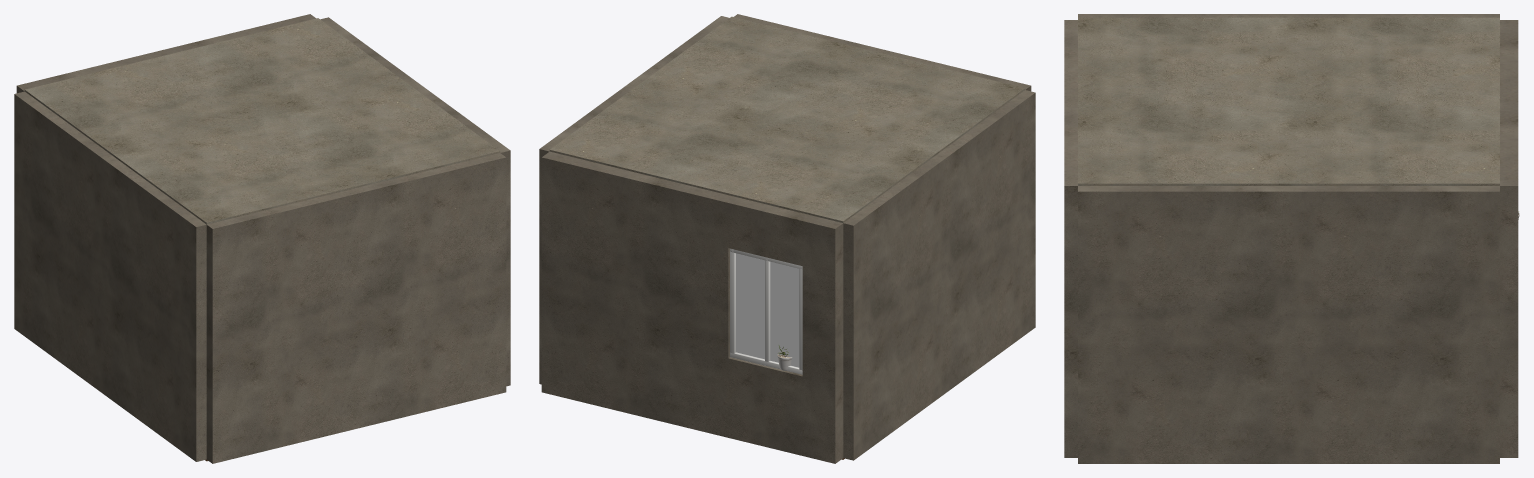
Rendered from room.glb.
3 renders of one model, left to right at view 1: azimuth 30°, elevation 25°; view 2: azimuth 150°, elevation 25°; view 3: azimuth 270°, elevation 25°, orthographic. The views are drawn at different scales.
Visible parts, largest first — view 1: wall_back, ceiling, wall_left, wall_right, wall_front_r; view 2: ceiling, wall_left, wall_front_r, wall_front_l, wall_front_b, rt_windowGlass, wall_front_t, wall_right, wall_back, window_frame_3, window_frame_4; view 3: wall_right, ceiling, wall_front_r, wall_back, wall_left, wall_front_t.
Part boxes in pixels (x1=…): wall_back: x1=206, y1=153, x2=506, y2=463; ceiling: x1=24, y1=18, x2=500, y2=224; wall_left: x1=14, y1=91, x2=206, y2=461; wall_right: x1=320, y1=17, x2=510, y2=386; wall_front_r: x1=124, y1=14, x2=315, y2=63; ceiling: x1=549, y1=16, x2=1025, y2=222; wall_left: x1=843, y1=90, x2=1035, y2=460; wall_front_r: x1=541, y1=151, x2=735, y2=437; wall_front_l: x1=802, y1=215, x2=843, y2=463; wall_front_b: x1=728, y1=357, x2=802, y2=455; rt_windowGlass: x1=736, y1=253, x2=799, y2=367; wall_front_t: x1=728, y1=197, x2=809, y2=265; wall_right: x1=539, y1=16, x2=729, y2=384; wall_back: x1=734, y1=14, x2=1031, y2=91; window_frame_3: x1=730, y1=249, x2=735, y2=357; window_frame_4: x1=765, y1=257, x2=770, y2=366; wall_right: x1=1078, y1=186, x2=1499, y2=463; ceiling: x1=1078, y1=17, x2=1499, y2=185; wall_front_r: x1=1500, y1=80, x2=1518, y2=457; wall_back: x1=1064, y1=20, x2=1077, y2=457; wall_left: x1=1078, y1=14, x2=1499, y2=17; wall_front_t: x1=1500, y1=38, x2=1518, y2=80.
Size of the model in its own units: 3.64 by 2.64 by 3.94.
Materials: 55 (8 with a texture image).
